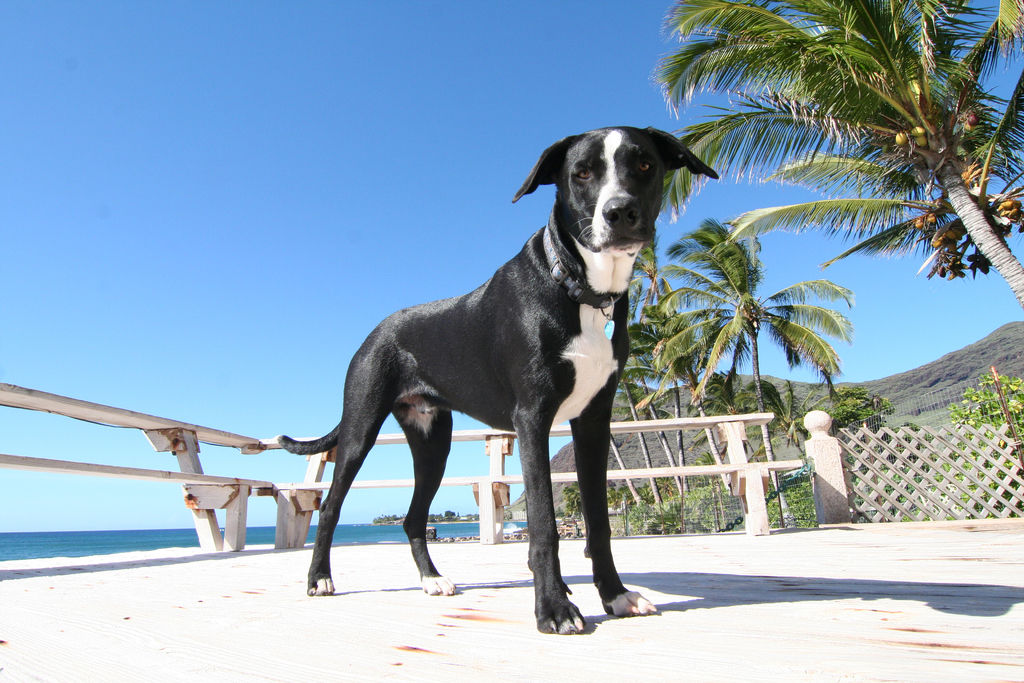Tree: (607, 0, 1024, 529), (563, 464, 615, 522)
